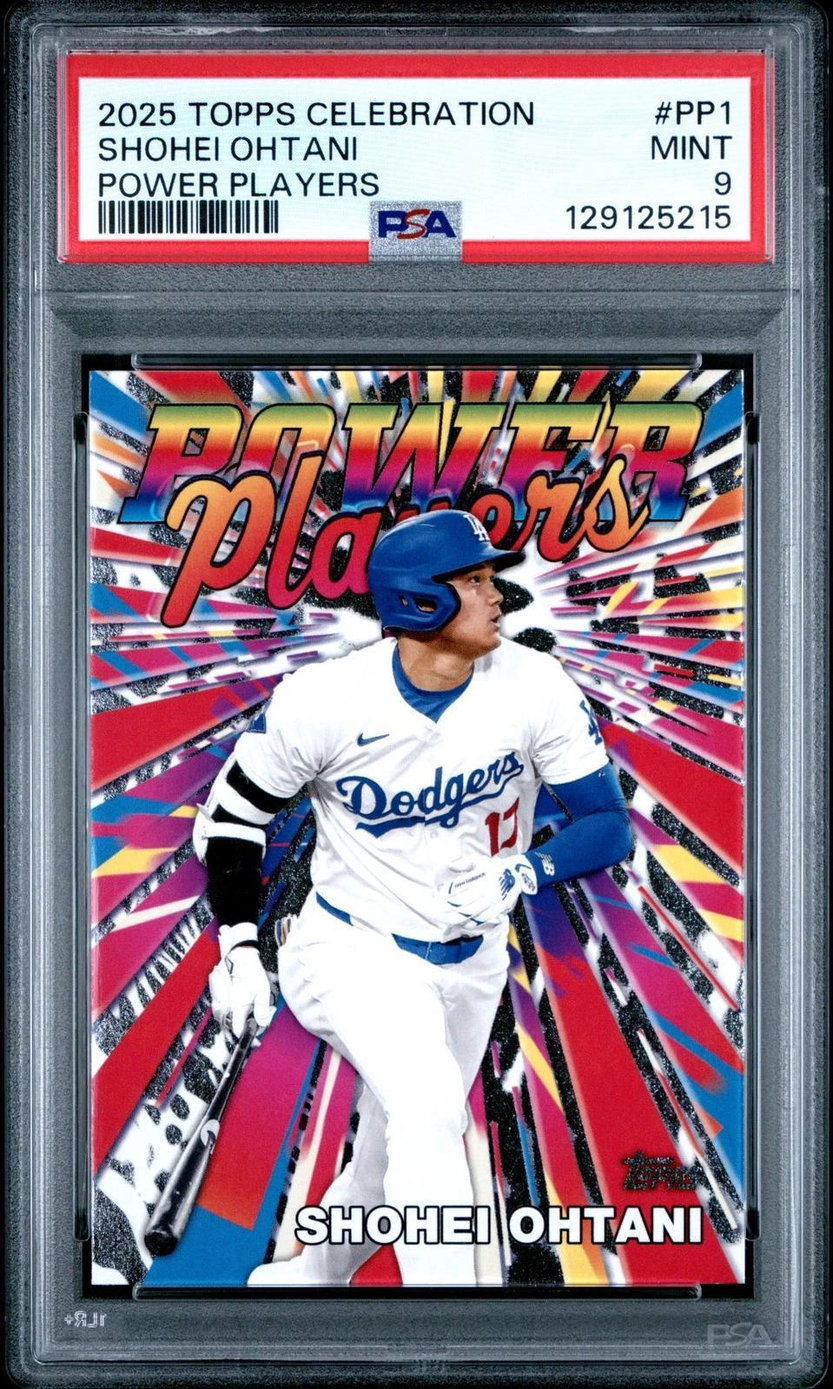card-2UtV: (88, 368, 746, 1286)
